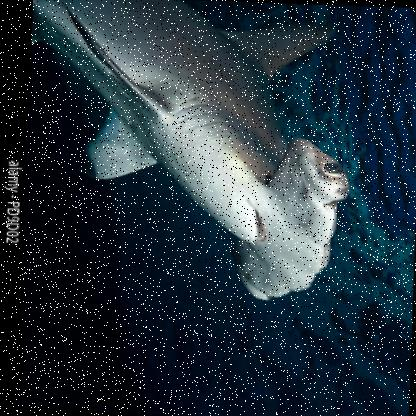hammerhead_Shark: (23, 0, 380, 305)
